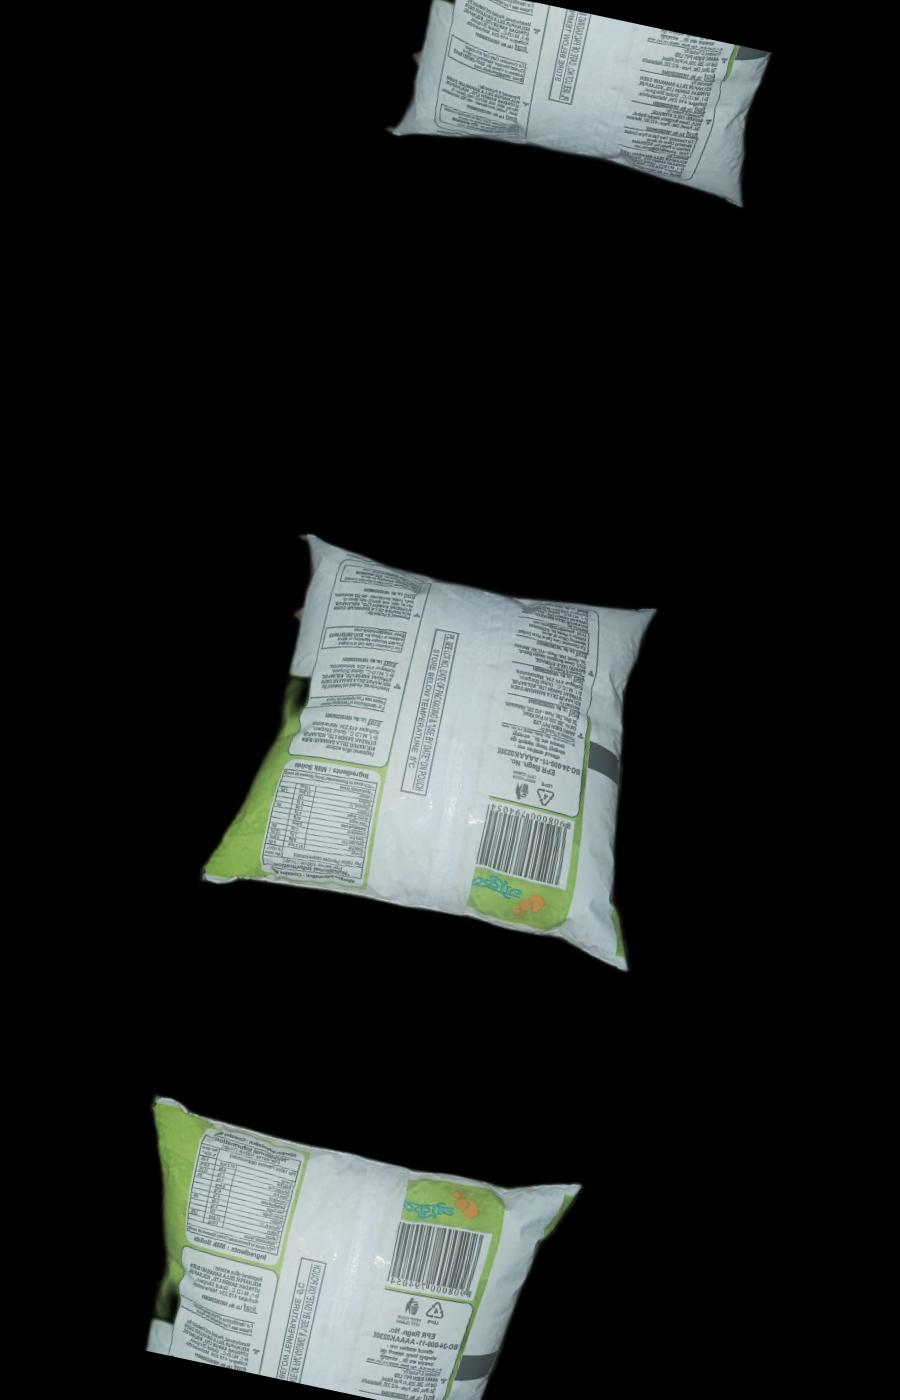Gokul Milk 500ml: (204, 523, 705, 981), (108, 1084, 585, 1400), (365, 0, 821, 221)
